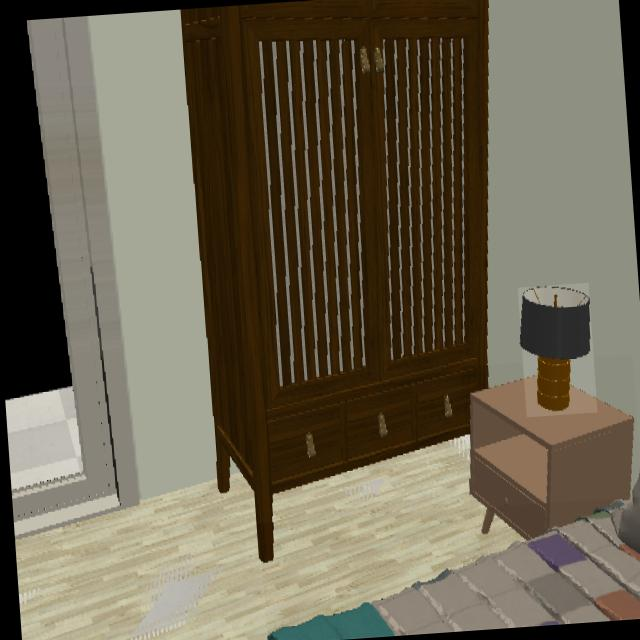bed: (268, 501, 640, 640)
lamp: (521, 286, 590, 415)
nighttable: (471, 360, 637, 541)
wardrobe: (181, 0, 490, 562)
